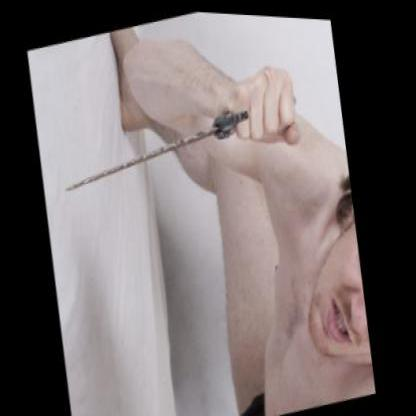knife: (46, 32, 312, 216)
